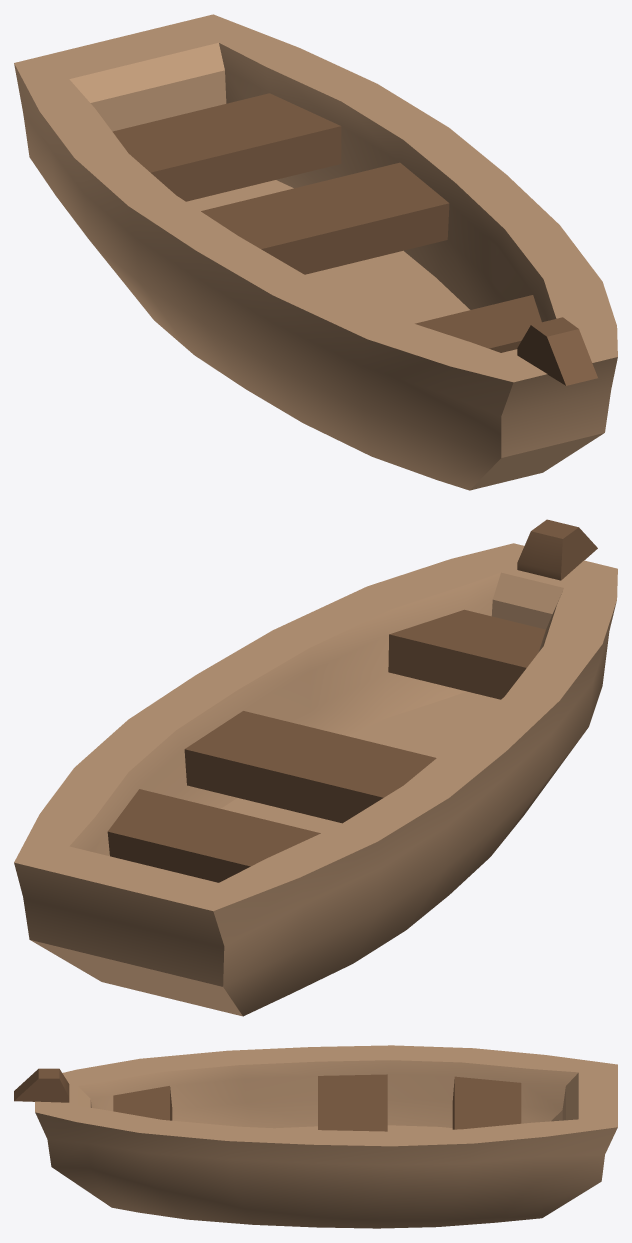
File: boat.glb
The picture shows the model from 3 angles, top to bottom: view 1: azimuth 30°, elevation 25°; view 2: azimuth 150°, elevation 25°; view 3: azimuth 270°, elevation 25°; orthographic projection. The views are drawn at different scales.
Parts seen in each view (by area): view 1: boat; view 2: boat; view 3: boat.
Part boxes in pixels (x1,y1,x2,y2): boat: (14,14,617,490); boat: (14,519,617,1016); boat: (14,1045,617,1228).
Bounding box in the file's own units: 2.49 × 1.42 × 6.31.
Materials: 1 (1 with a texture image).
